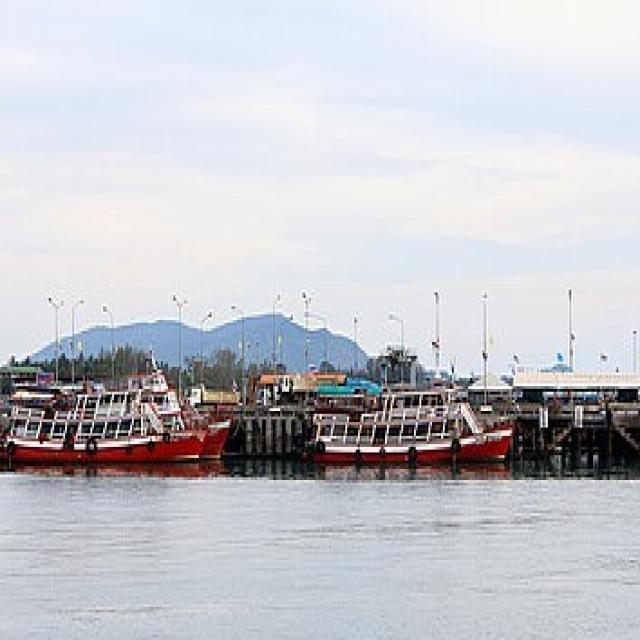passenger ship: (296, 340, 512, 480), (29, 338, 203, 482)
